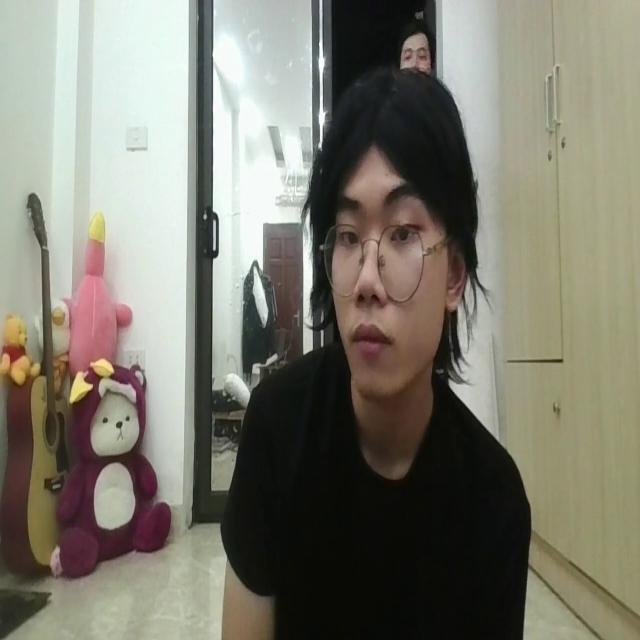student: (213, 68, 535, 640)
